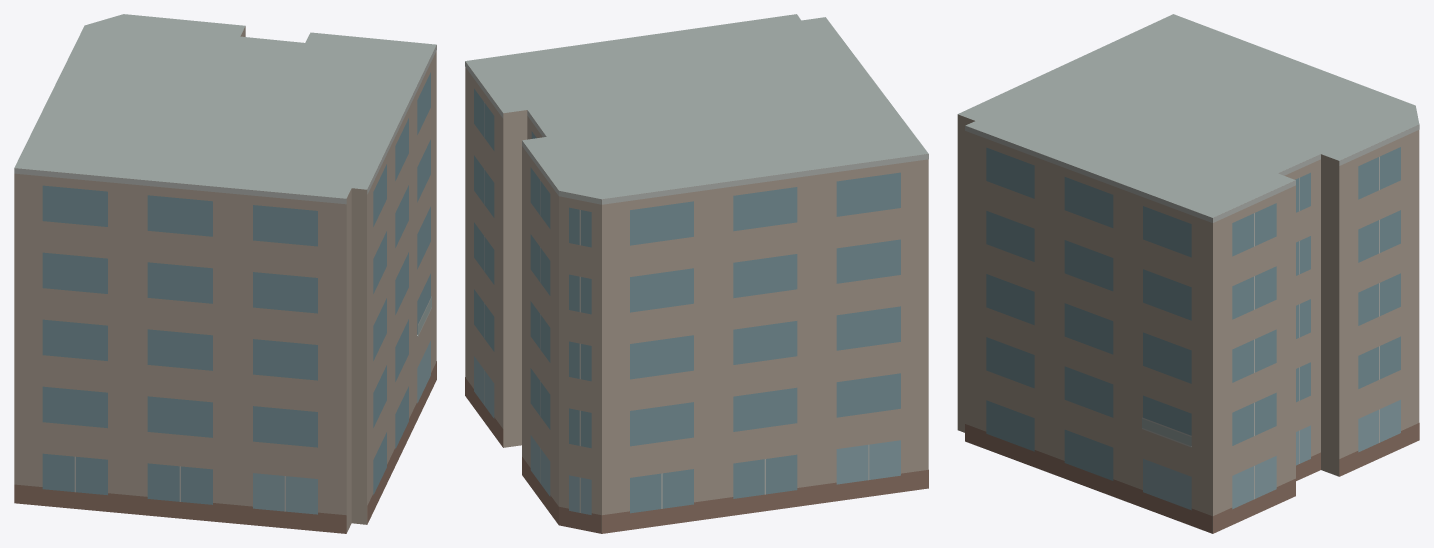
File: survey-upis-32902254.glb
3 views of the same model, side by side, from view 1: azimuth 30°, elevation 25°; view 2: azimuth 150°, elevation 25°; view 3: azimuth 270°, elevation 25° (orthographic). The views are drawn at different scales.
Visible parts, largest first — view 1: survey-upis-32902254.tmp; view 2: survey-upis-32902254.tmp; view 3: survey-upis-32902254.tmp.
Boxes of the visible parts, x1,y1,x2,y2 form: survey-upis-32902254.tmp: (14,14,436,533); survey-upis-32902254.tmp: (465,14,928,533); survey-upis-32902254.tmp: (957,14,1419,533).
Bounding box in the file's own units: 20.5 × 14.8 × 19.62.
